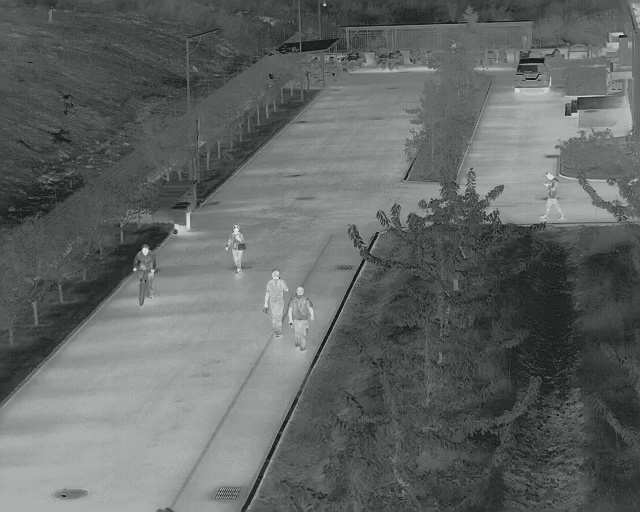NonMotorVehicle: (132, 244, 161, 305)
person: (262, 267, 288, 338), (289, 285, 316, 350), (538, 170, 567, 221), (224, 221, 248, 274)
vehicle: (514, 55, 552, 96)
